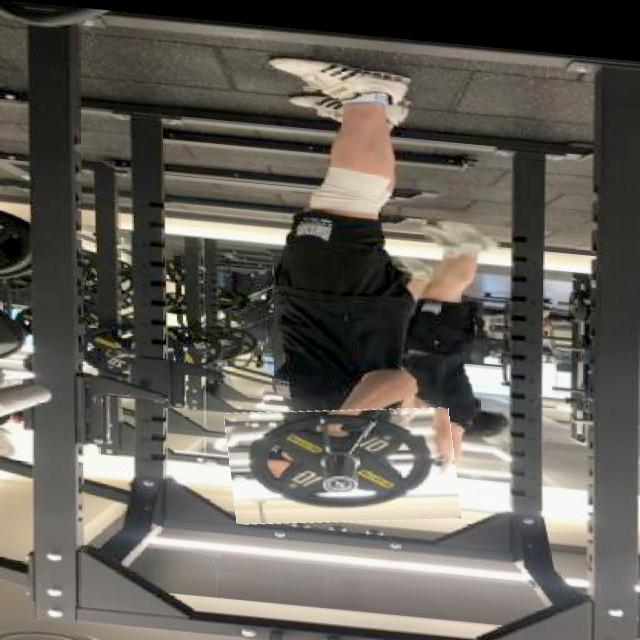barbell: (228, 389, 460, 531)
